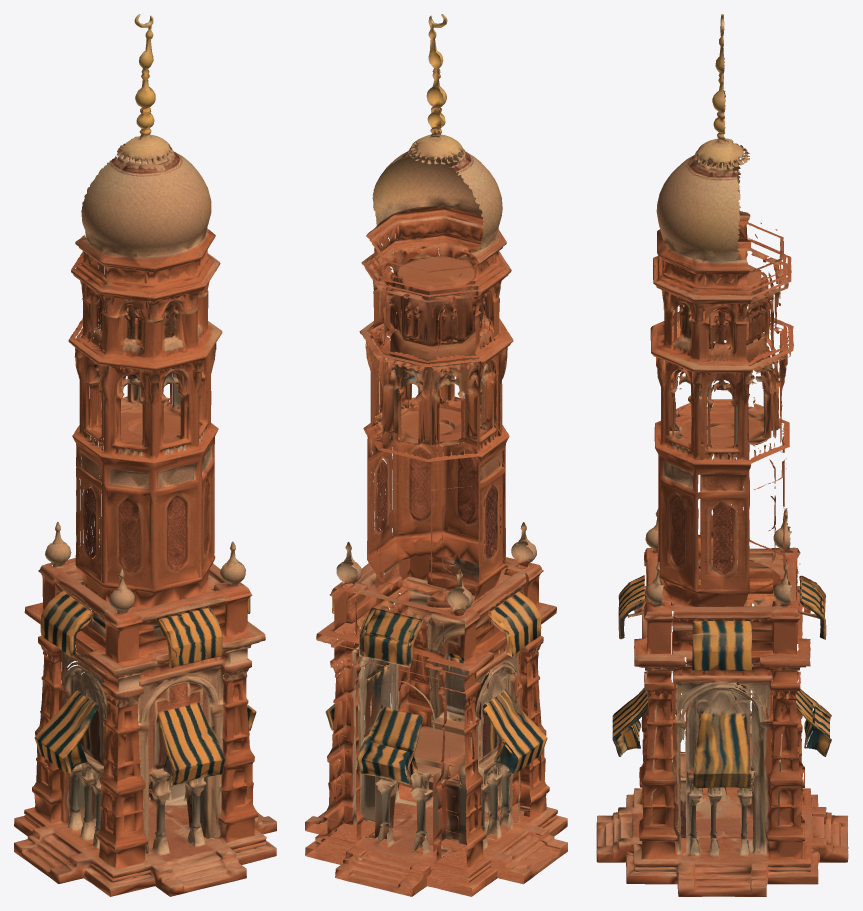
Rendered from desert_tower.glb.
The picture shows the model from 3 angles, left to right: view 1: azimuth 30°, elevation 25°; view 2: azimuth 150°, elevation 25°; view 3: azimuth 270°, elevation 25°; orthographic projection.
Size of the model in its own units: 0.5264 by 1.9 by 0.5256.
Materials: 1 (1 with a texture image).
